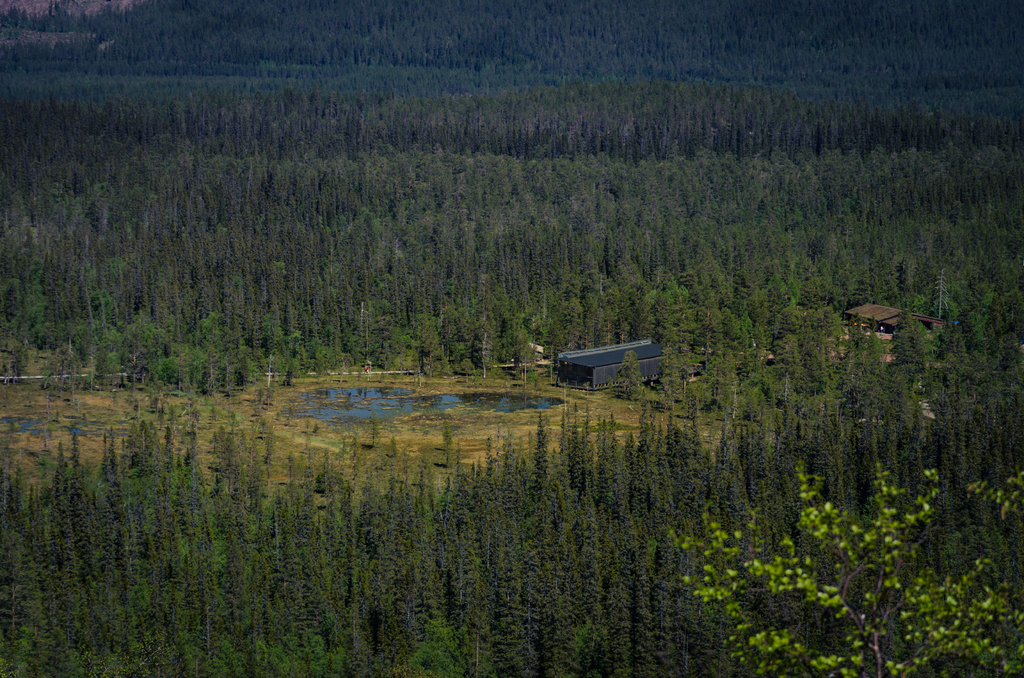Tree: (668, 460, 1023, 677), (696, 345, 883, 512), (558, 418, 669, 677), (0, 442, 122, 674), (887, 201, 1023, 388), (96, 193, 199, 369), (400, 445, 478, 677), (184, 433, 258, 677), (483, 435, 555, 677), (3, 185, 98, 361), (320, 458, 396, 677), (127, 421, 189, 677), (257, 444, 321, 677), (284, 198, 371, 359), (892, 388, 1023, 491), (369, 202, 455, 358), (199, 201, 278, 370), (459, 203, 534, 350), (539, 210, 609, 353), (824, 208, 894, 345), (674, 215, 741, 354), (749, 213, 821, 341), (616, 213, 674, 347), (657, 139, 765, 210), (947, 2, 1023, 102), (540, 84, 654, 149), (890, 145, 1023, 199), (136, 2, 205, 99), (653, 81, 774, 135), (408, 92, 531, 145), (0, 131, 119, 183), (787, 0, 848, 101), (305, 94, 408, 149), (771, 103, 872, 158), (384, 2, 446, 90), (210, 90, 302, 149), (765, 151, 860, 208), (897, 1, 948, 107), (446, 0, 508, 87), (322, 0, 382, 86), (851, 0, 898, 107), (513, 1, 572, 85), (374, 151, 471, 202), (0, 47, 95, 98), (92, 3, 140, 102), (211, 0, 266, 86), (268, 0, 321, 88), (551, 158, 657, 202), (878, 108, 1023, 140), (199, 151, 286, 201), (291, 153, 378, 203), (684, 2, 738, 80), (742, 1, 785, 97), (627, 1, 680, 77), (115, 144, 197, 193), (1, 101, 133, 130), (578, 1, 628, 77), (474, 153, 547, 201), (139, 99, 208, 147), (0, 5, 90, 26)
